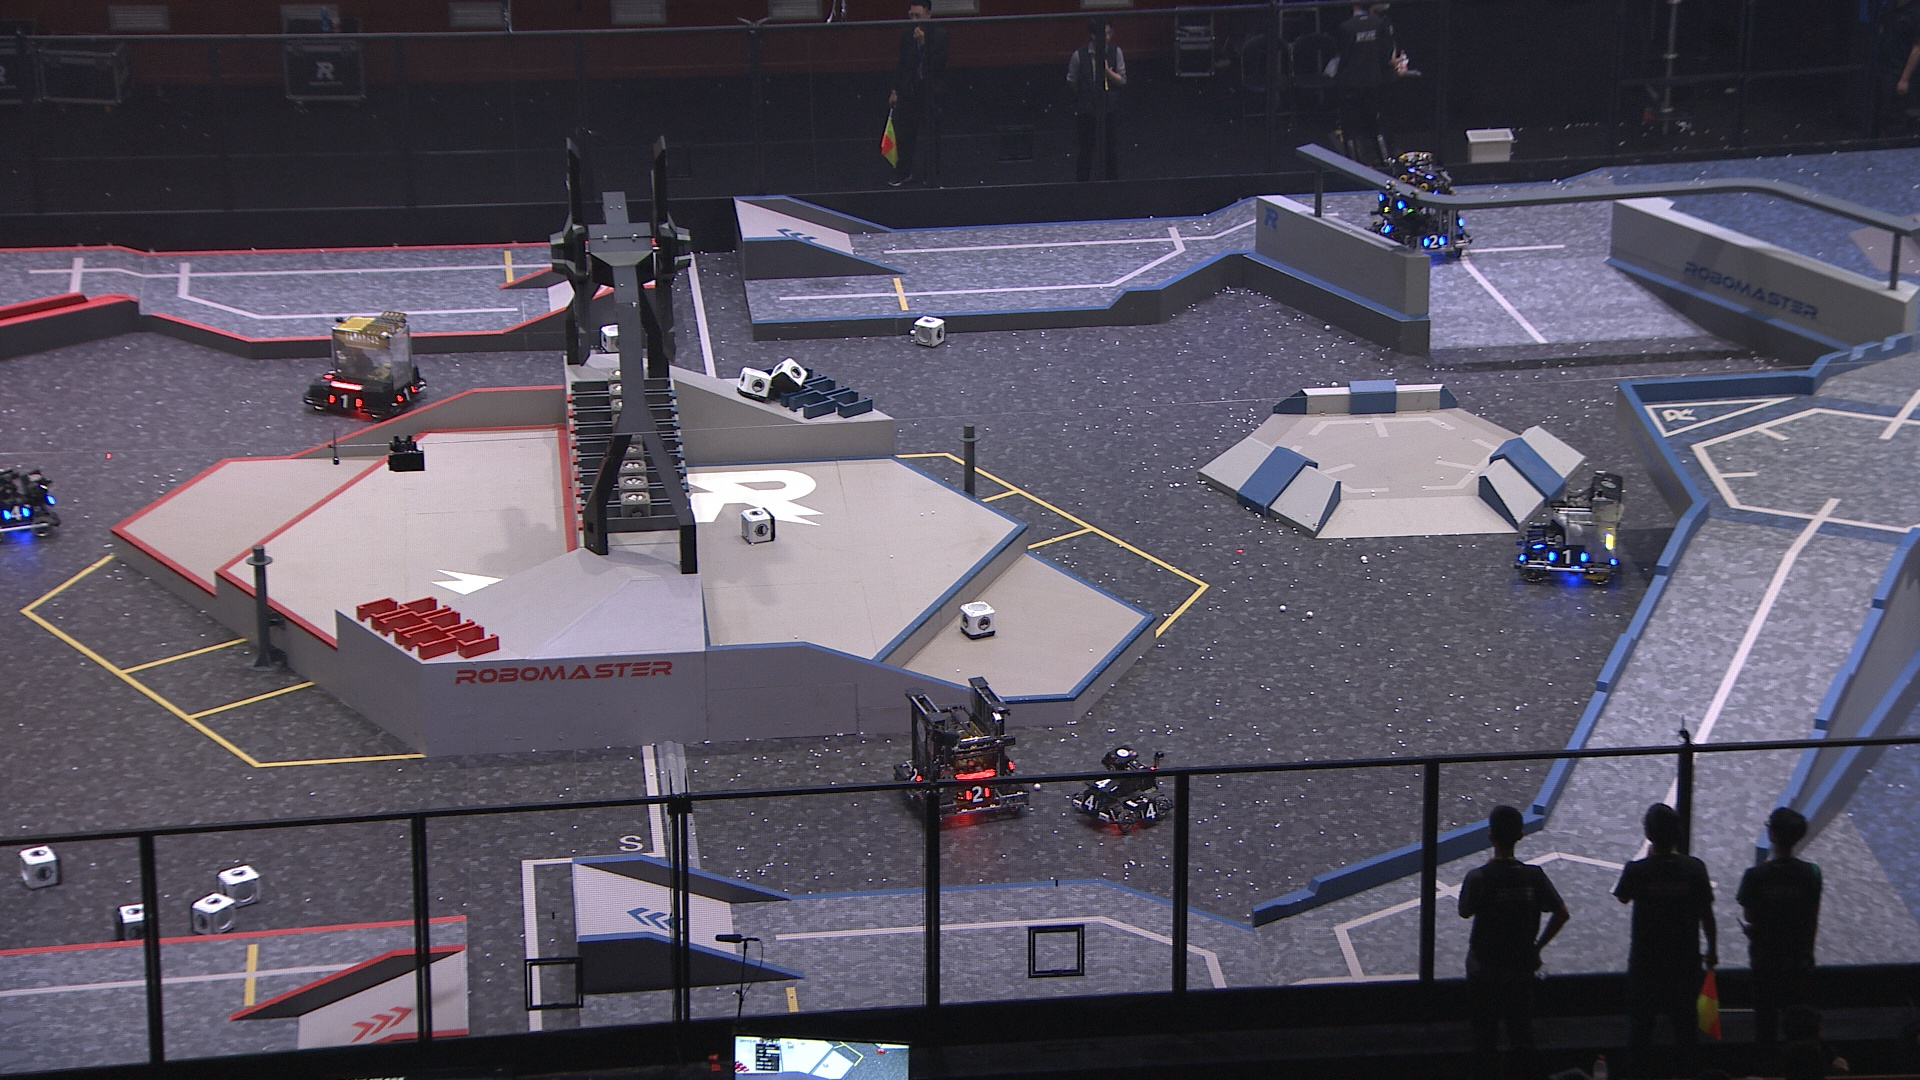armor: (1545, 547, 1589, 567), (1375, 190, 1408, 214), (328, 390, 363, 410), (961, 785, 992, 806), (3, 502, 32, 524), (394, 380, 419, 404), (1135, 799, 1162, 822), (906, 765, 926, 793), (1095, 774, 1120, 794), (1077, 793, 1102, 812), (1528, 531, 1548, 553), (1423, 233, 1444, 249), (323, 365, 339, 382), (1375, 218, 1393, 233)
car: (887, 678, 1031, 828), (1356, 146, 1472, 273), (301, 309, 430, 419), (1513, 469, 1631, 584), (1068, 744, 1179, 836)
watcher: (1367, 161, 1448, 237)
